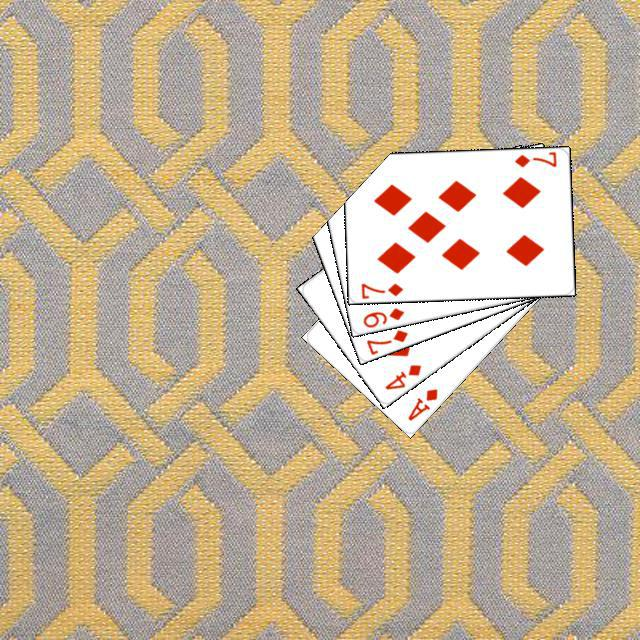4d: (380, 359, 423, 391)
7d: (361, 325, 410, 355), (356, 278, 404, 299), (510, 148, 558, 169)
9d: (358, 303, 406, 329)
Ad: (402, 384, 439, 423)
